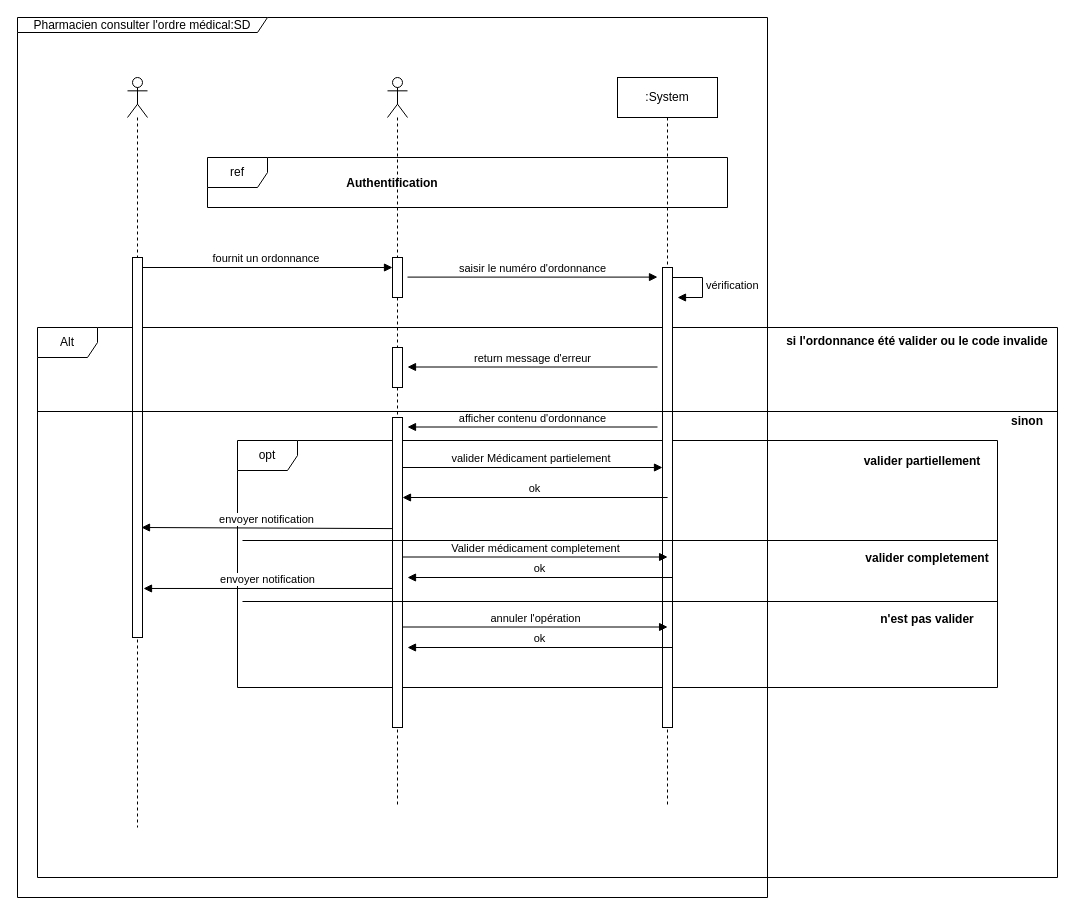
The diagram is 1075 pixels wide and 915 high, and some of its shapes have lost their labels. Here are the shapes that lost their labels. From the top down, the box of each, then its label:
(126, 76, 148, 828): patient
(386, 76, 408, 808): pharmacien
